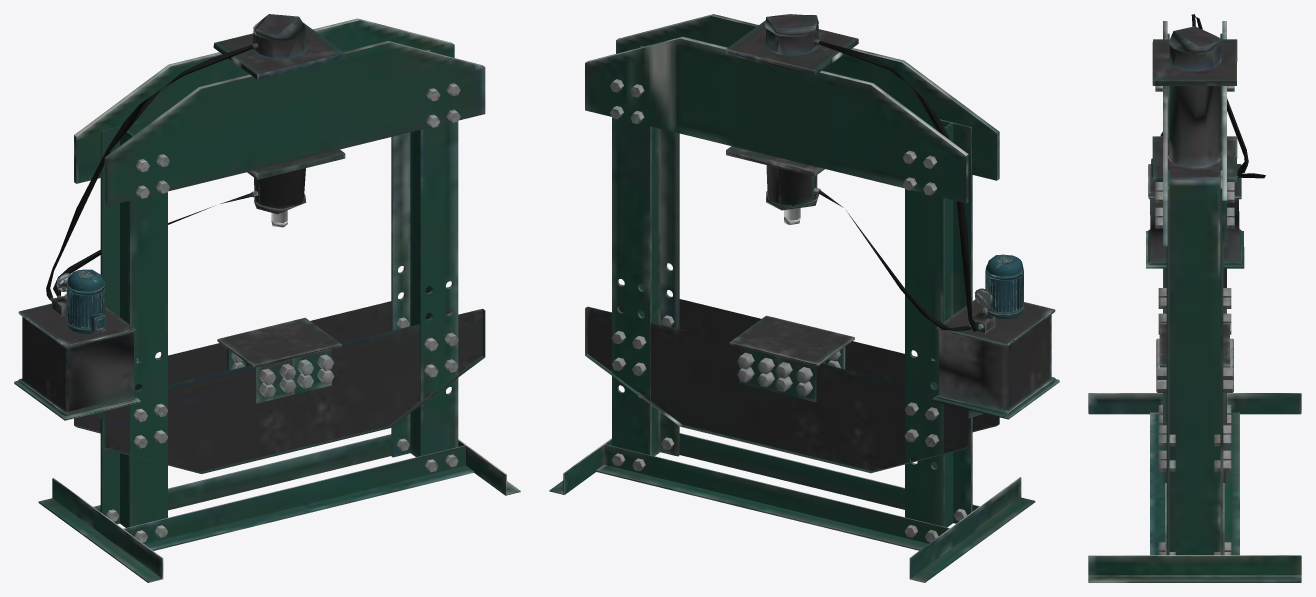
File: hydraulic-press.gltf
3 views of the same model, side by side, from view 1: azimuth 30°, elevation 25°; view 2: azimuth 150°, elevation 25°; view 3: azimuth 270°, elevation 25° (orthographic). The views are drawn at different scales.
Parts seen in each view (by area): view 1: Sketchfab_model; view 2: Sketchfab_model; view 3: Sketchfab_model.
Part boxes in pixels (<box>): Sketchfab_model: <box>14,14,520,582</box>; Sketchfab_model: <box>549,14,1059,582</box>; Sketchfab_model: <box>1088,14,1301,582</box>.
Bounding box in the file's own units: 1.7 × 1.79 × 0.7547.
Materials: 1 (1 with a texture image).
